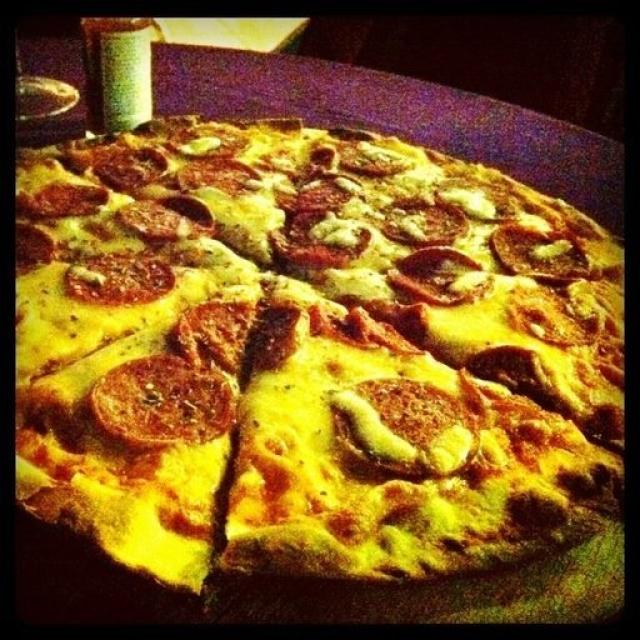Pepperoni: (331, 374, 486, 463), (94, 358, 233, 447), (169, 299, 301, 374), (303, 292, 435, 362), (492, 216, 594, 288), (391, 244, 485, 311), (273, 214, 369, 276), (76, 249, 177, 307), (115, 187, 212, 247), (516, 297, 620, 350), (373, 193, 472, 248), (177, 156, 261, 204), (18, 179, 112, 219), (275, 175, 363, 213), (94, 142, 166, 188), (337, 140, 408, 174)
Pizza: (18, 119, 621, 594)
